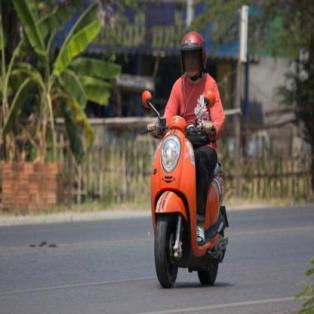Motocicleta: (138, 91, 230, 292)
